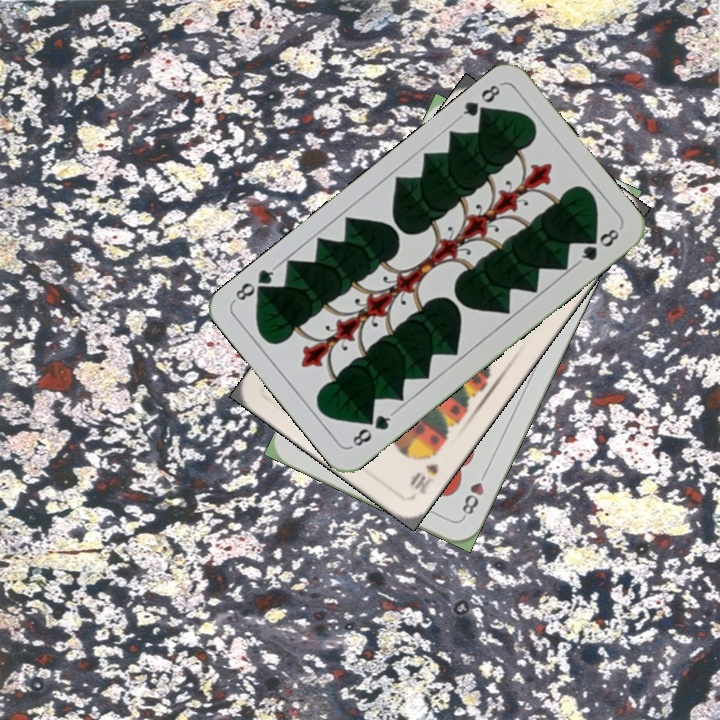G8: (454, 79, 504, 122), (346, 408, 396, 450)
H8: (457, 465, 490, 521)
S10: (405, 459, 441, 497)
